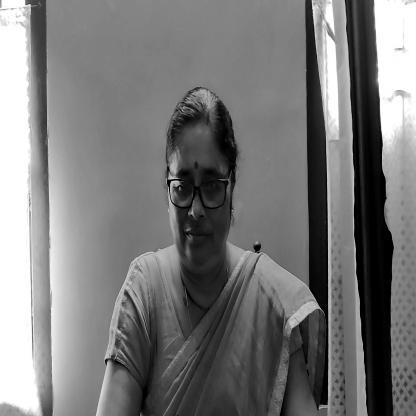Normal: (161, 80, 244, 272)
